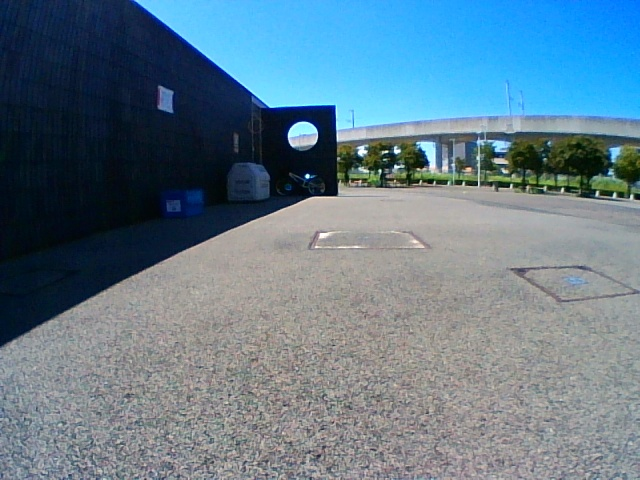blue_box: (161, 190, 204, 218)
tag: (168, 201, 179, 211)
